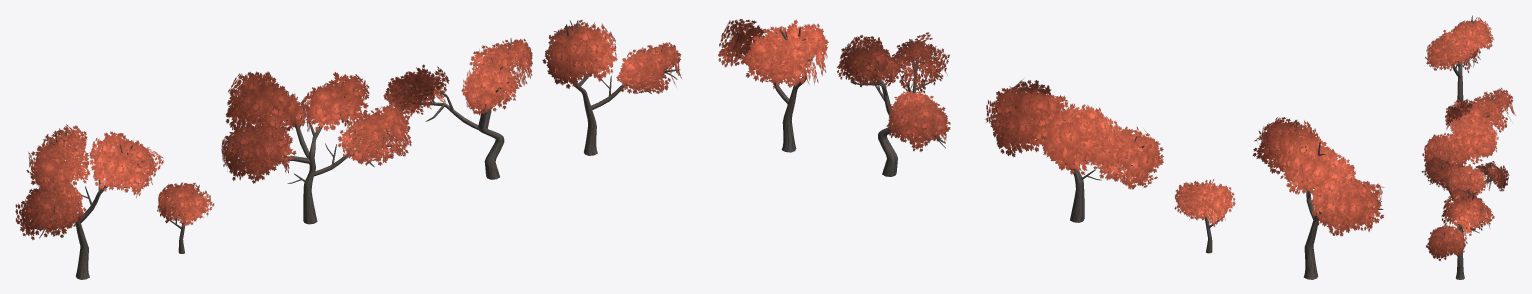
Rendered from tree-maple.glb.
3 renders of one model, left to right at view 1: azimuth 30°, elevation 25°; view 2: azimuth 150°, elevation 25°; view 3: azimuth 270°, elevation 25°, orthographic. The views are drawn at different scales.
Visible parts, largest first — view 1: MapleTree_3, MapleTree_5, MapleTree_2, MapleTree_1, MapleTree_4; view 2: MapleTree_3, MapleTree_5, MapleTree_2, MapleTree_1, MapleTree_4; view 3: MapleTree_3, MapleTree_1, MapleTree_5, MapleTree_2, MapleTree_4.
Part boxes in pixels (x1=…): MapleTree_3: x1=221, y1=71, x2=411, y2=224; MapleTree_5: x1=15, y1=124, x2=163, y2=279; MapleTree_2: x1=383, y1=38, x2=532, y2=179; MapleTree_1: x1=542, y1=19, x2=681, y2=155; MapleTree_4: x1=157, y1=182, x2=214, y2=253; MapleTree_3: x1=985, y1=79, x2=1163, y2=222; MapleTree_5: x1=1253, y1=117, x2=1384, y2=279; MapleTree_2: x1=837, y1=32, x2=950, y2=176; MapleTree_1: x1=718, y1=19, x2=828, y2=152; MapleTree_4: x1=1174, y1=179, x2=1235, y2=253; MapleTree_3: x1=1422, y1=87, x2=1515, y2=175; MapleTree_1: x1=1426, y1=188, x2=1494, y2=279; MapleTree_5: x1=1425, y1=15, x2=1494, y2=105; MapleTree_2: x1=1421, y1=157, x2=1509, y2=246; MapleTree_4: x1=1445, y1=99, x2=1469, y2=131.
Size of the model in its own units: 34.21 by 7.29 by 6.68.
2 materials, 2 textured.
